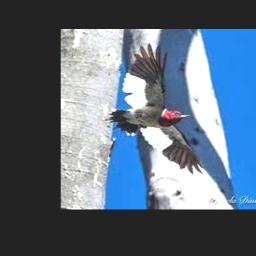Woodpecker: (102, 44, 204, 175)
